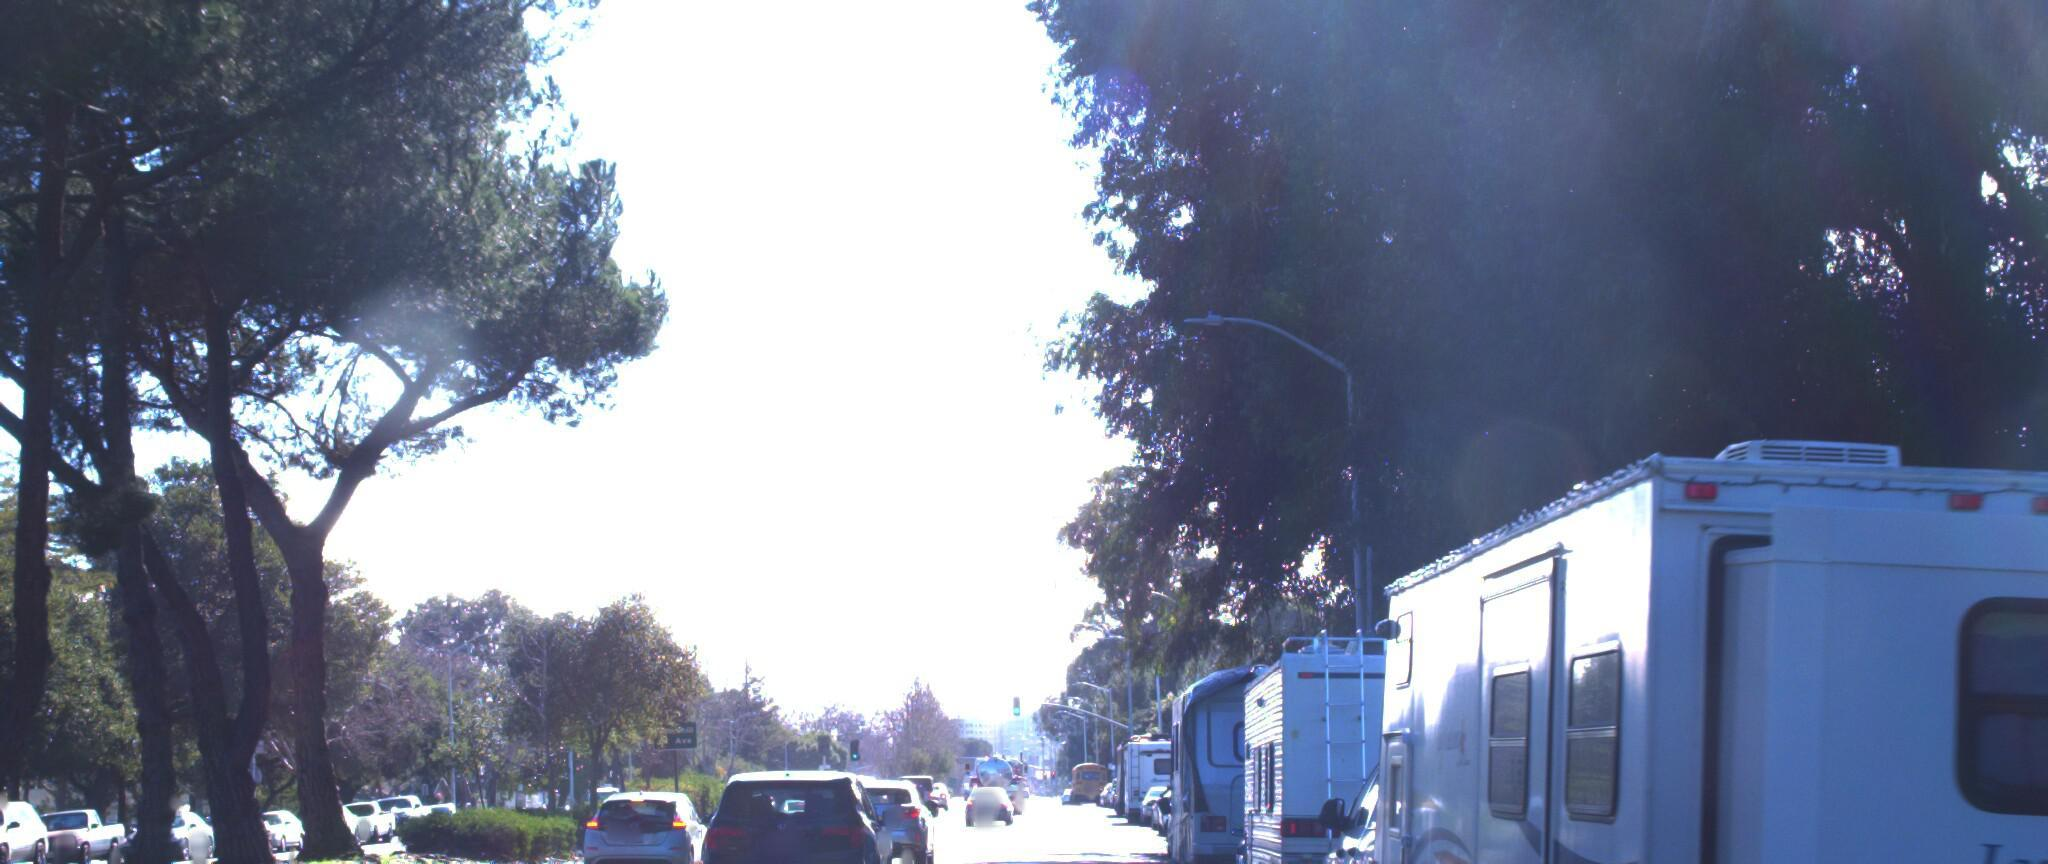car: (1294, 701, 1772, 864), (657, 757, 908, 864), (567, 760, 711, 859), (822, 769, 935, 857), (1962, 830, 2048, 864)
other_vehicle: (1322, 348, 2048, 864), (1229, 595, 1618, 864), (1165, 646, 1377, 864)
